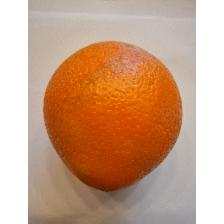Orange: (42, 40, 184, 196)
